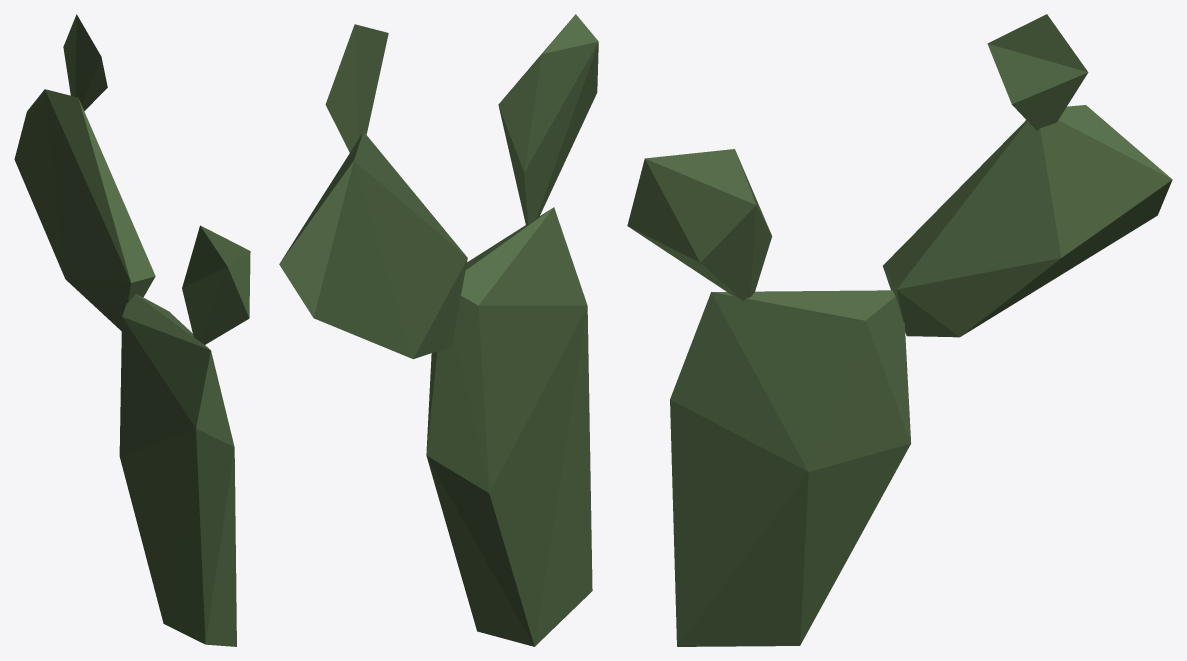
Rendered from Cactus_5.lod3.glb.
3 renders of one model, left to right at view 1: azimuth 30°, elevation 25°; view 2: azimuth 150°, elevation 25°; view 3: azimuth 270°, elevation 25°, orthographic. The views are drawn at different scales.
Parts seen in each view (by area): view 1: Cactus_5; view 2: Cactus_5; view 3: Cactus_5.
Part boxes in pixels (x1,y1,x2,y2): Cactus_5: (14,14,250,646); Cactus_5: (279,14,598,646); Cactus_5: (627,14,1172,646).
Size of the model in its own units: 0.1161 by 0.874 by 0.6832.
